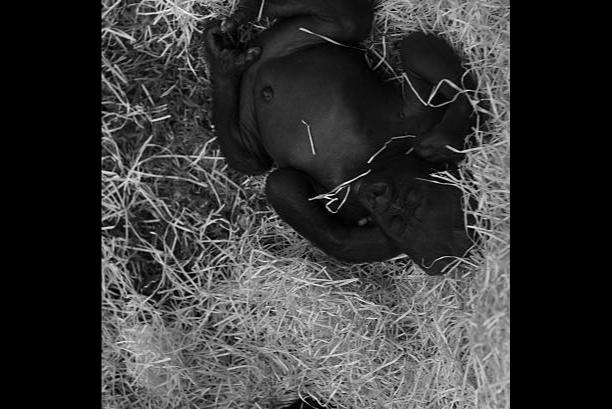gorille_Autres: (178, 0, 489, 284)
